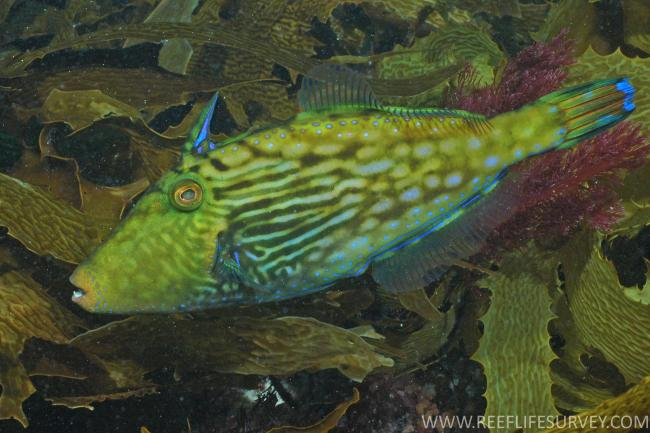fish: (70, 61, 636, 315)
